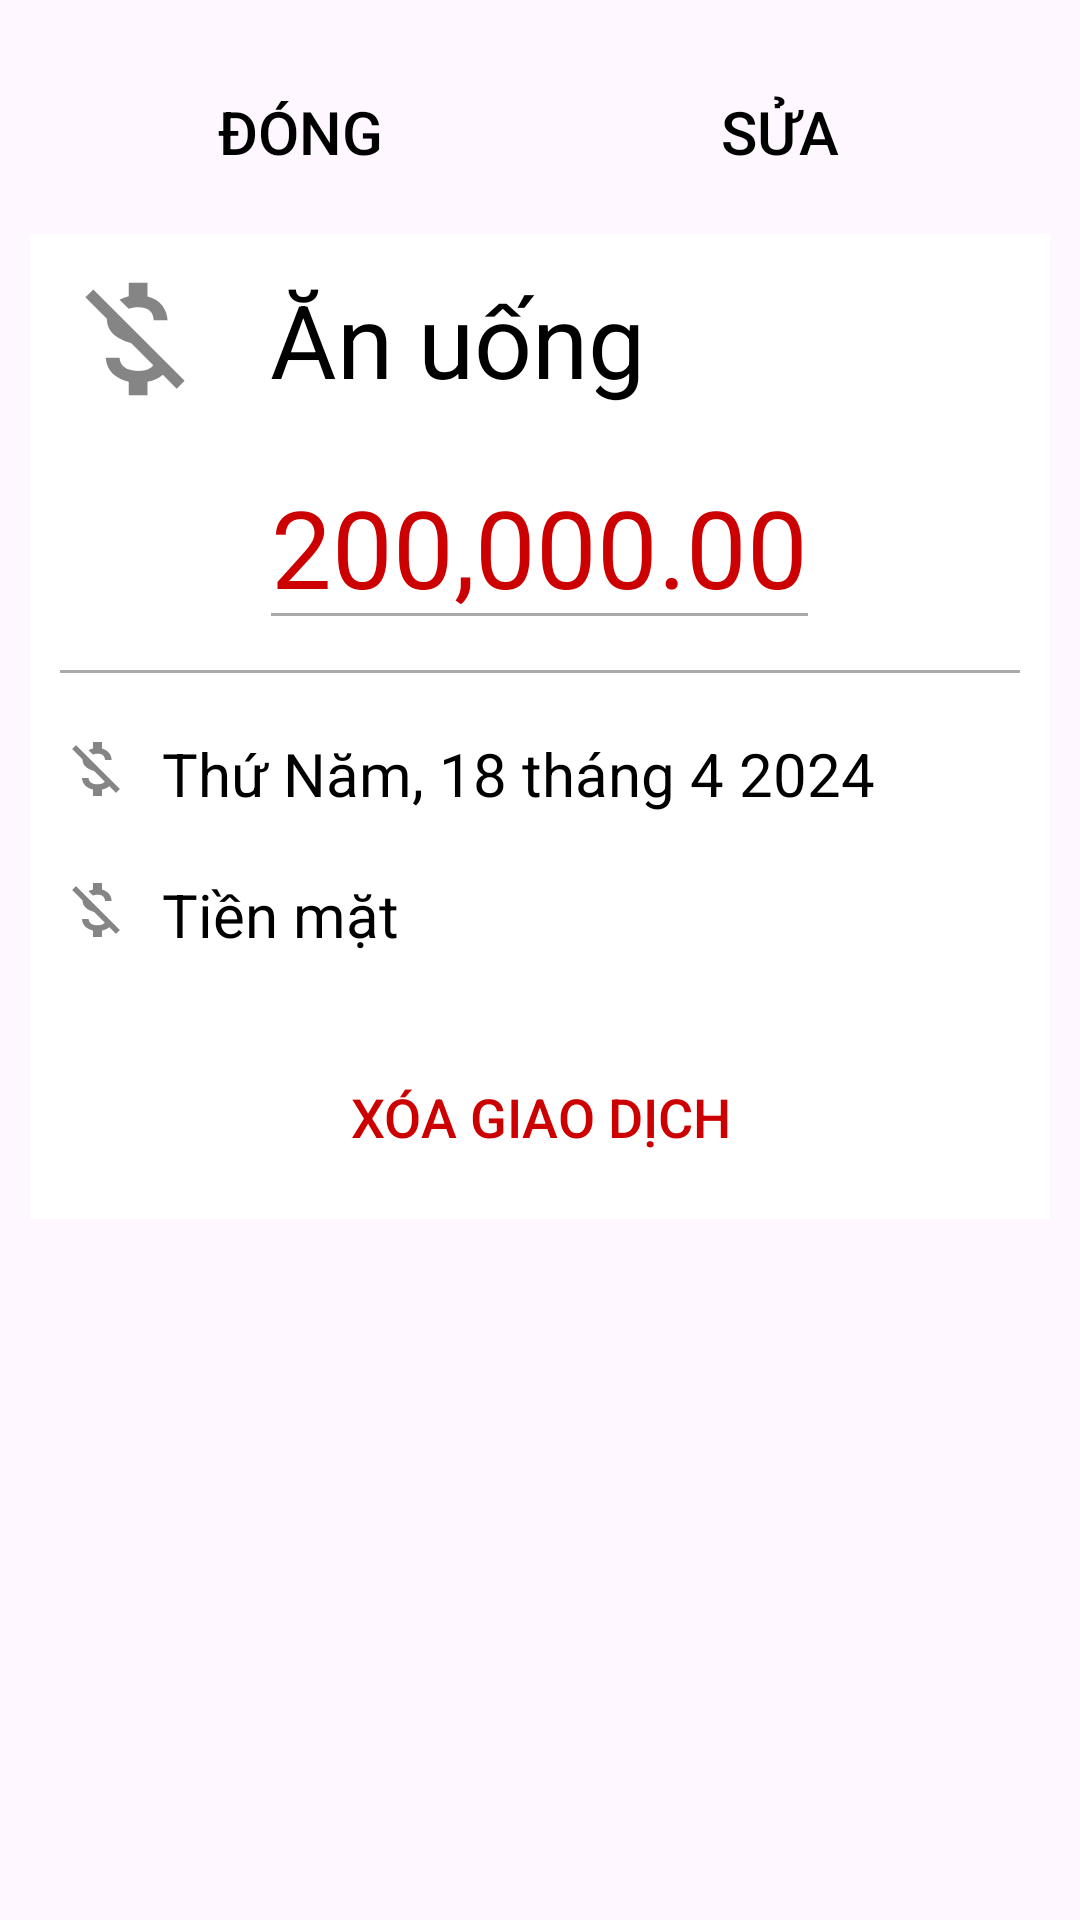

Where icons sit on this 1080px×1920px app screen, as (x1, y1, x2, y2):
money: (85, 282, 185, 396), (72, 742, 120, 796), (72, 883, 120, 937)
